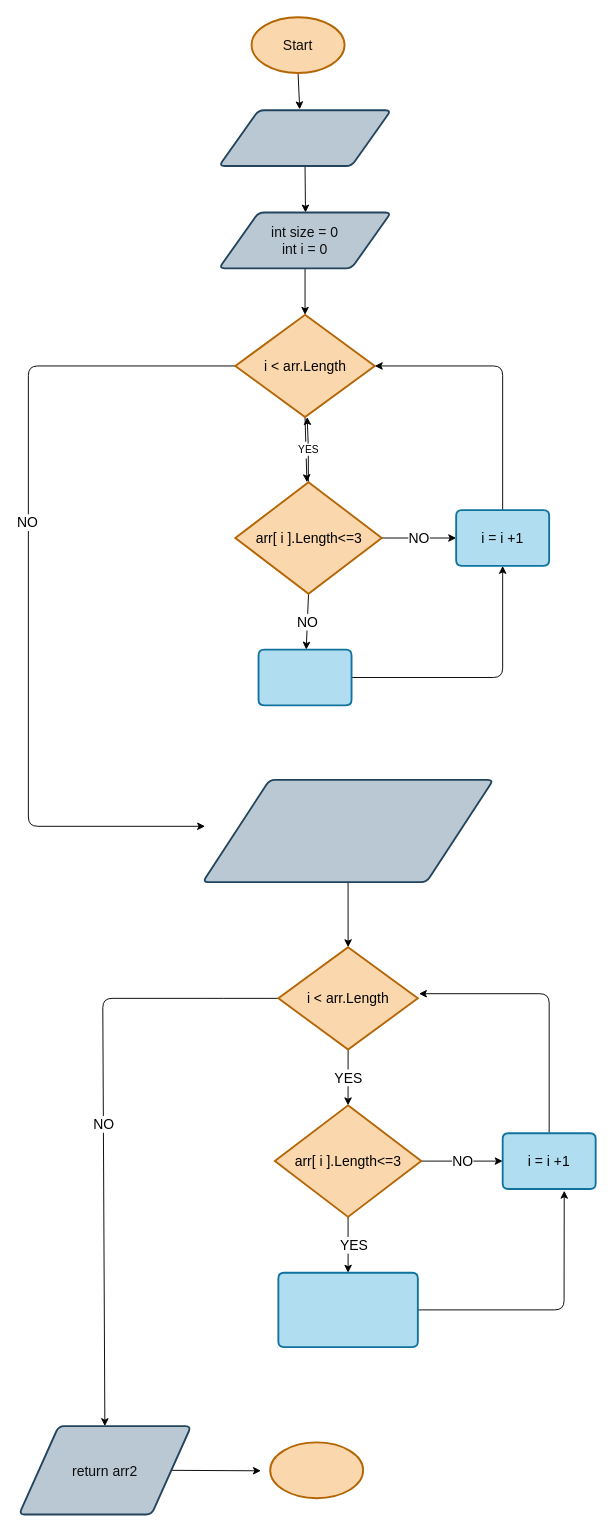
This 612x1531 diagram has some shape labels left out. The centre of each missing label's shape, as x and y in pixels:
"arr2[index] = arr[ i ] index = index + 1" goes at (x=347, y=1309).
"End" goes at (x=316, y=1470).
"size = size + 1" goes at (x=304, y=677).
"string[ ] arr = input" goes at (x=305, y=137).
"string[ ] arr2 = new string [size] int index = 0 int i = 0" goes at (x=347, y=830).
